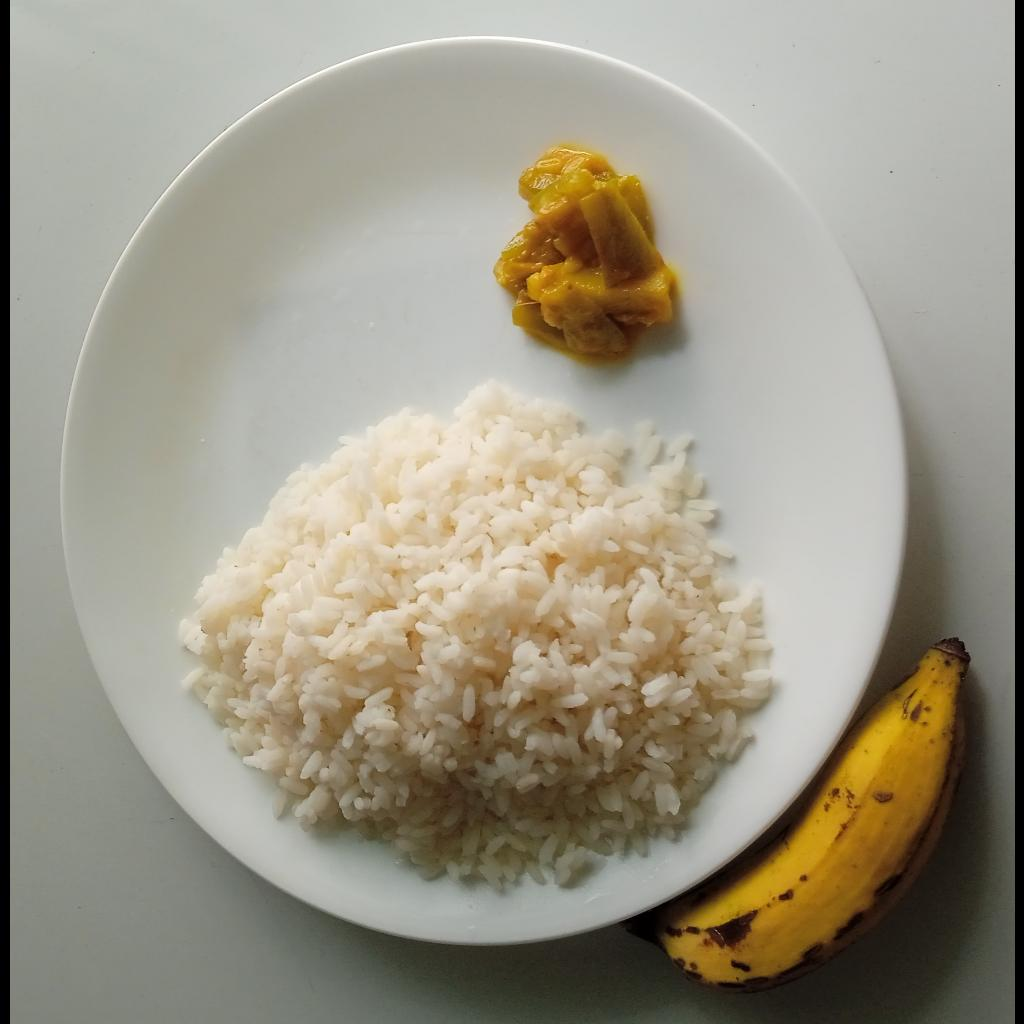banana: (622, 636, 969, 1001)
potol: (491, 145, 681, 355)
rice: (174, 378, 780, 901)
